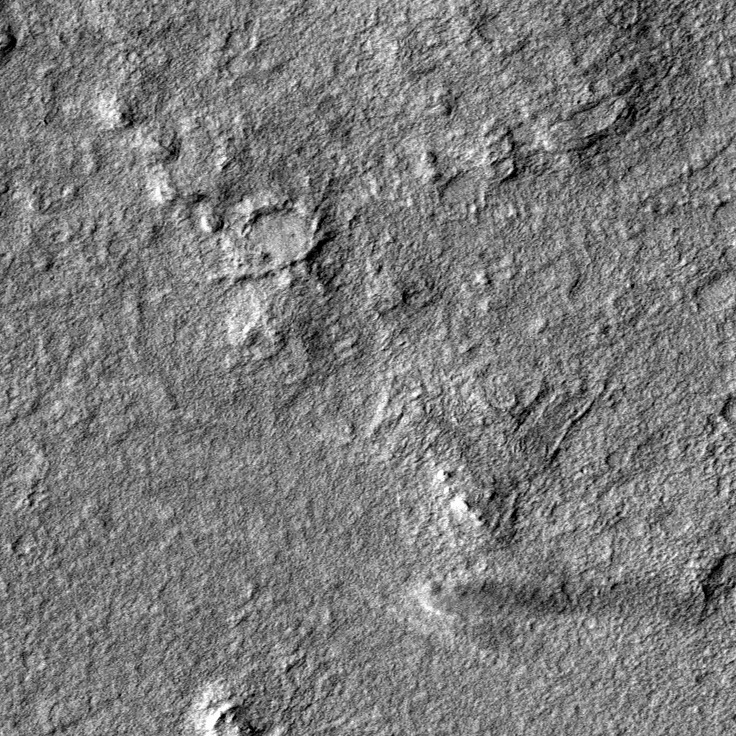dust_devil: (413, 576, 707, 624)
